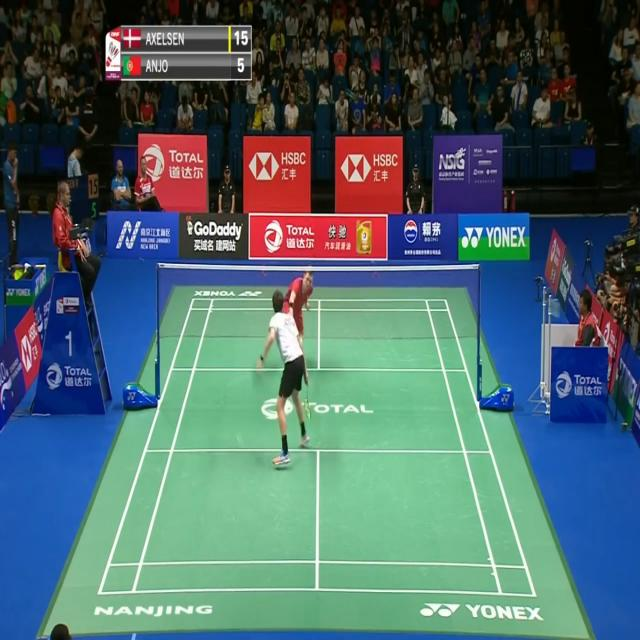Player1: (256, 289, 308, 477)
Player2: (284, 266, 318, 338)
